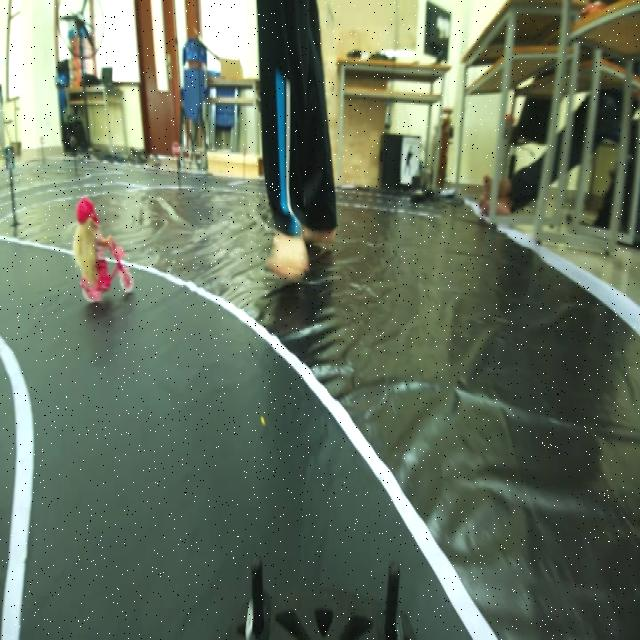pedestrian: (56, 186, 141, 313)
